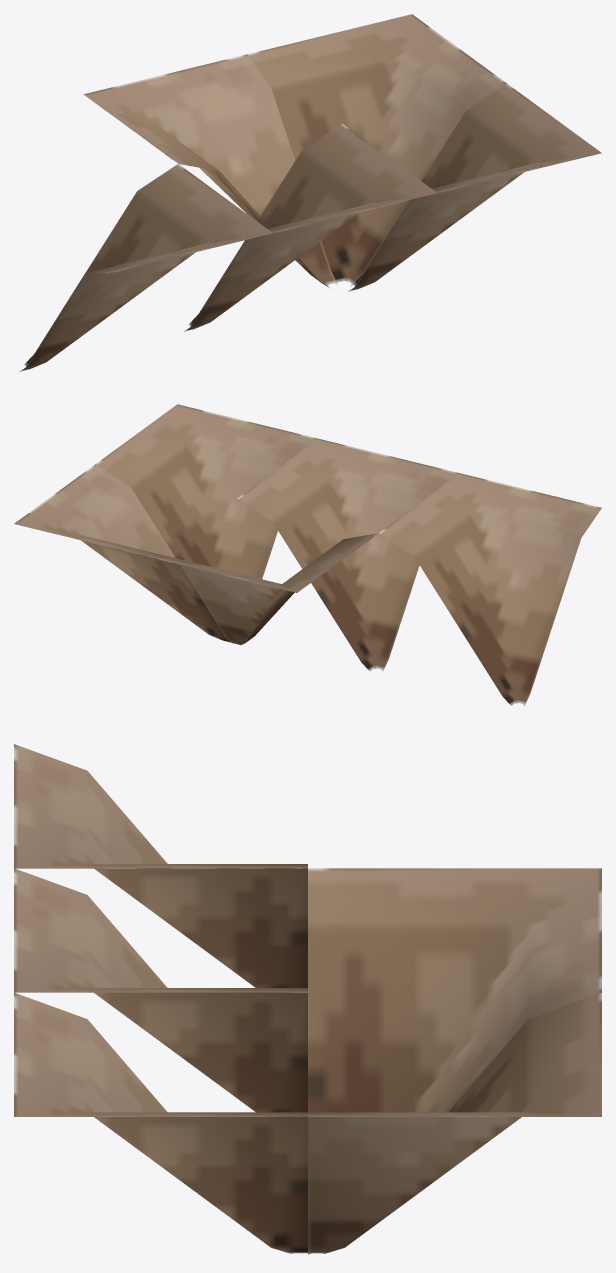
The model's file is WorldMap.fbx.
3 views of the same model, one above another, from view 1: azimuth 30°, elevation 25°; view 2: azimuth 150°, elevation 25°; view 3: azimuth 270°, elevation 25° (orthographic). The views are drawn at different scales.
Visible parts, largest first — view 1: m_cliffCornerIn_Clone__4, m_cliffCornerIn_Clone__3, m_cliffCornerIn_Clone__2, m_cliffCornerIn_Clone__1, m_cliffCornerIn_Clone_; view 2: m_cliffCornerIn_Clone__2, m_cliffCornerIn_Clone__1, m_cliffCornerIn_Clone_, m_cliffCornerIn_Clone__4, m_cliffCornerIn_Clone__3; view 3: m_cliffCornerIn_Clone__3, m_cliffCornerIn_Clone__4, m_cliffCornerIn_Clone_, m_cliffCornerIn_Clone__1, m_cliffCornerIn_Clone__2.
Boxes of the visible parts, left/top/right/bottom form: m_cliffCornerIn_Clone__4: left=248, top=14, right=506, bottom=286; m_cliffCornerIn_Clone__3: left=83, top=54, right=337, bottom=288; m_cliffCornerIn_Clone__2: left=20, top=164, right=272, bottom=371; m_cliffCornerIn_Clone__1: left=184, top=123, right=437, bottom=331; m_cliffCornerIn_Clone_: left=348, top=84, right=601, bottom=291; m_cliffCornerIn_Clone__2: left=379, top=473, right=601, bottom=706; m_cliffCornerIn_Clone__1: left=237, top=439, right=459, bottom=671; m_cliffCornerIn_Clone_: left=96, top=404, right=318, bottom=578; m_cliffCornerIn_Clone__4: left=14, top=464, right=231, bottom=642; m_cliffCornerIn_Clone__3: left=156, top=533, right=378, bottom=645; m_cliffCornerIn_Clone__3: left=308, top=868, right=601, bottom=1112; m_cliffCornerIn_Clone__4: left=308, top=992, right=601, bottom=1254; m_cliffCornerIn_Clone_: left=14, top=992, right=307, bottom=1253; m_cliffCornerIn_Clone__1: left=14, top=868, right=307, bottom=1112; m_cliffCornerIn_Clone__2: left=14, top=744, right=307, bottom=987.
Size of the model in its own units: 300 by 100 by 200.
